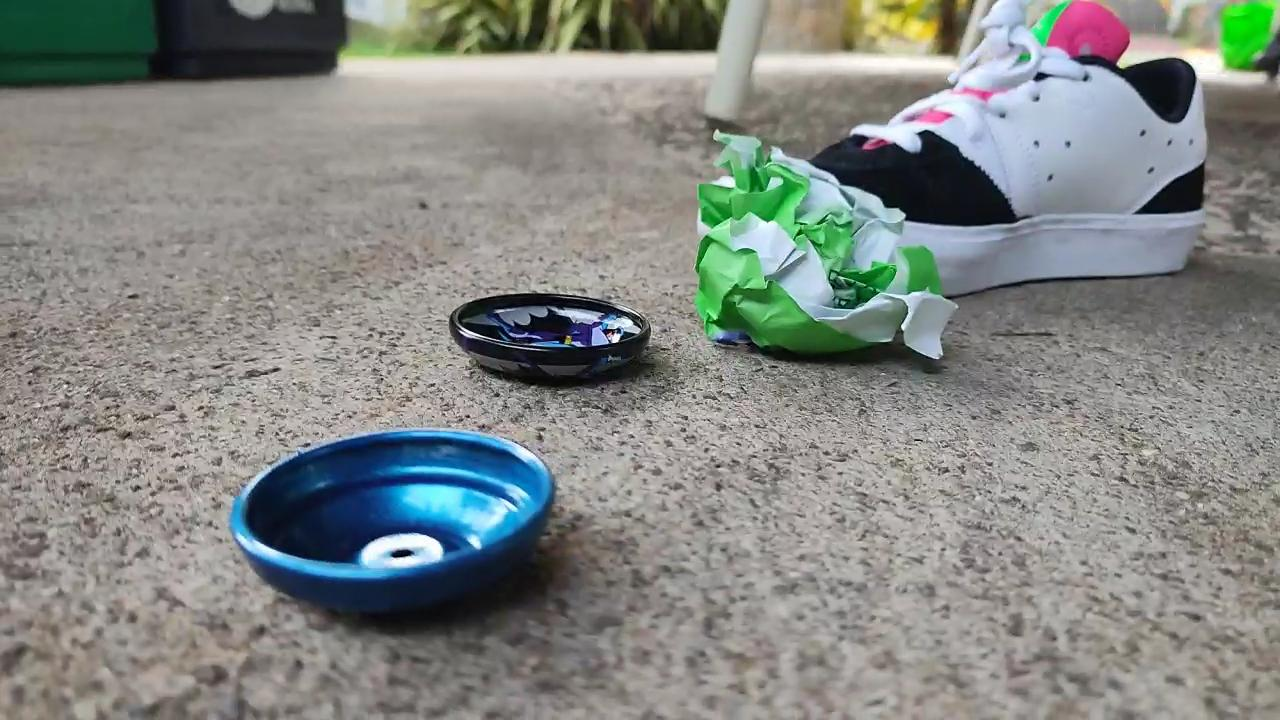Paper: (679, 121, 958, 367)
